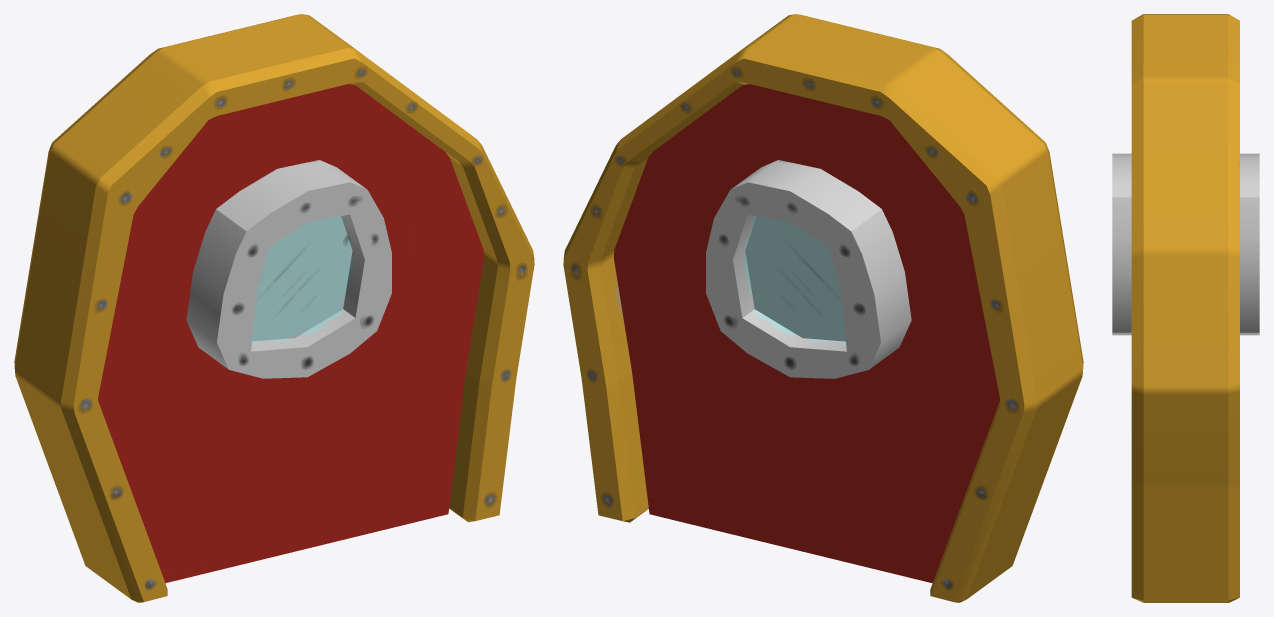
Rendered from door2.fbx.
3 views of the same model, side by side, from view 1: azimuth 30°, elevation 25°; view 2: azimuth 150°, elevation 25°; view 3: azimuth 270°, elevation 25° (orthographic). The views are drawn at different scales.
Visible parts, largest first — view 1: pCube26; view 2: pCube26; view 3: pCube26.
Boxes of the visible parts, x1,y1,x2,y2 form: pCube26: (14, 14, 534, 602); pCube26: (563, 14, 1083, 602); pCube26: (1112, 14, 1259, 602).
Bounding box in the file's own units: 429 × 437 × 126.
